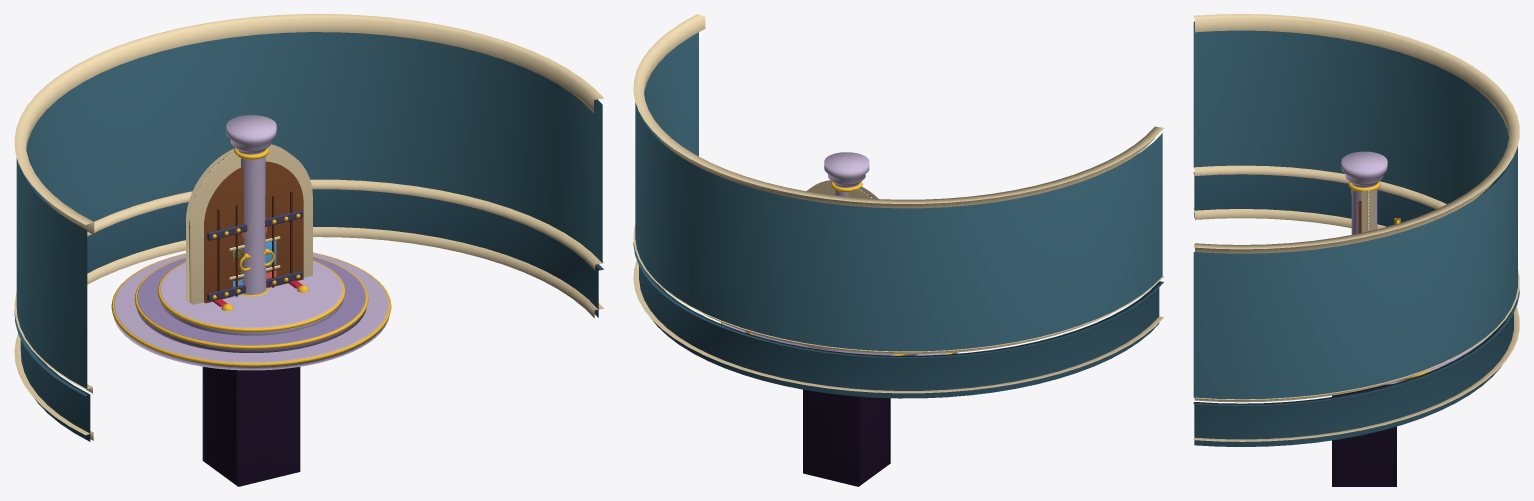
Rendered from props.glb.
3 views of the same model, side by side, from view 1: azimuth 30°, elevation 25°; view 2: azimuth 150°, elevation 25°; view 3: azimuth 270°, elevation 25° (orthographic). The views are drawn at different scales.
Parts seen in each view (by area): view 1: wall, dais, door, shaft, column, window; view 2: wall, shaft, column; view 3: wall, shaft, column, door.
Part boxes in pixels (<box>): wall: <box>14,14,604,441</box>; dais: <box>111,252,391,370</box>; door: <box>186,144,312,304</box>; shaft: <box>202,367,300,486</box>; column: <box>226,115,276,296</box>; window: <box>229,227,280,296</box>; wall: <box>633,14,1164,398</box>; shaft: <box>803,389,890,486</box>; column: <box>824,152,869,196</box>; wall: <box>1193,14,1519,446</box>; shaft: <box>1332,384,1396,486</box>; column: <box>1341,151,1387,234</box>; door: <box>1358,188,1374,233</box>.
Size of the model in its own units: 14.5 by 9.81 by 8.5.
